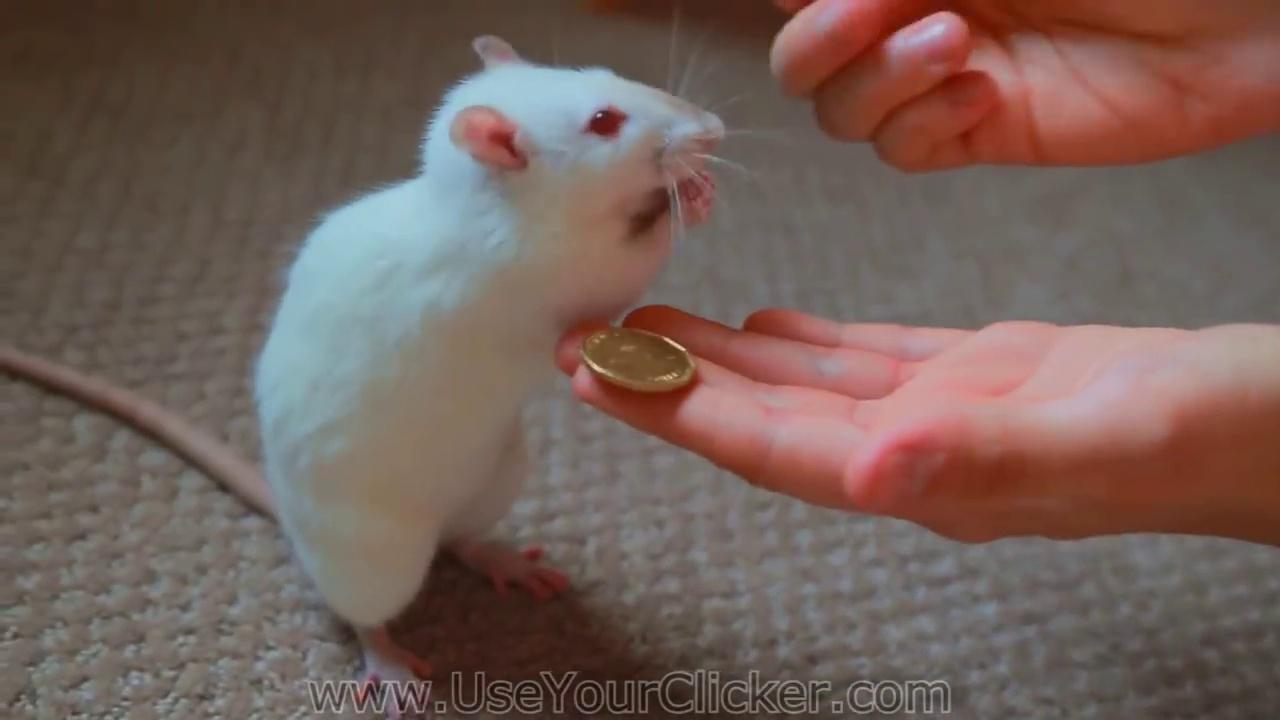rat: (0, 36, 728, 720)
